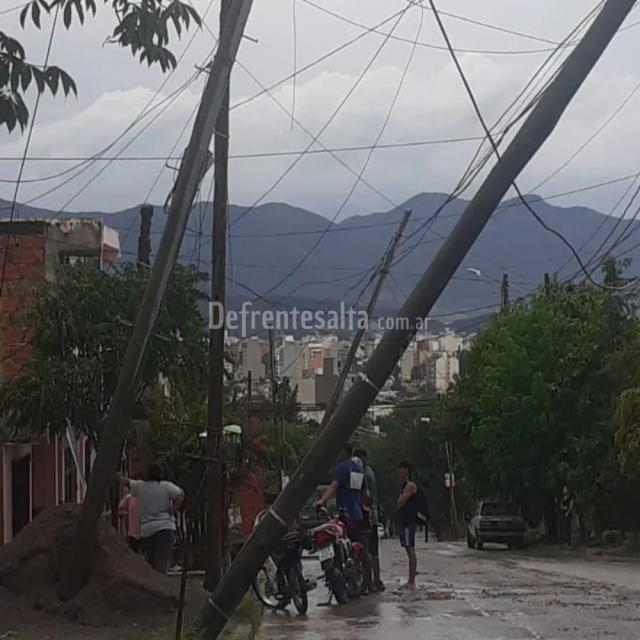Inclined Pole: (185, 0, 640, 640), (53, 1, 257, 591)
